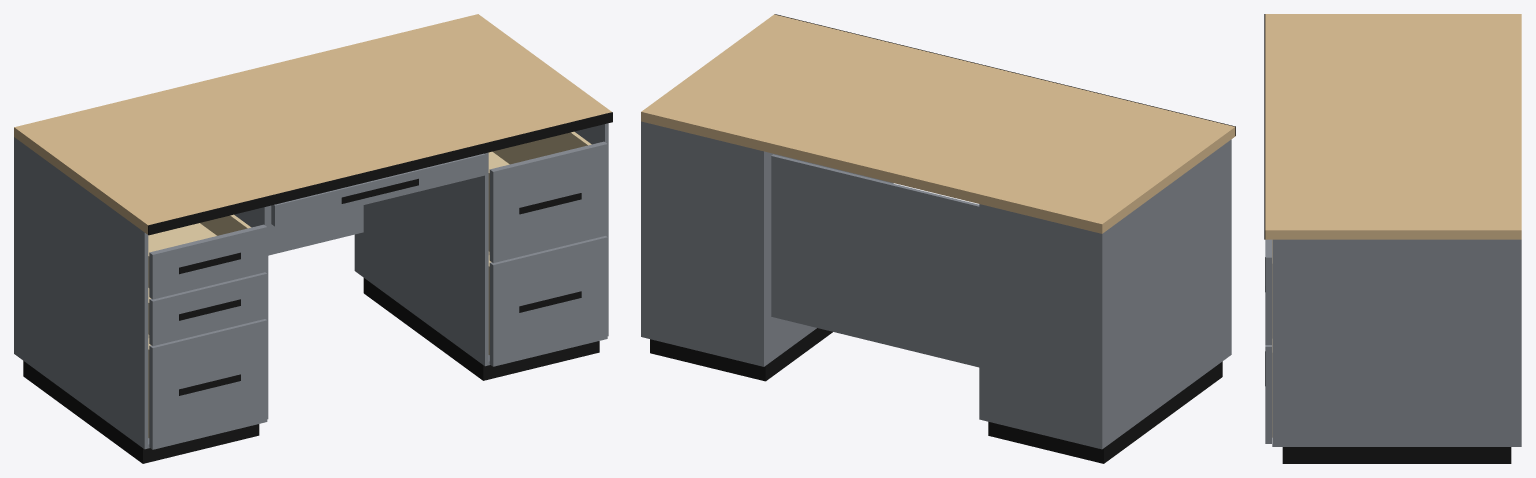
File: 078_teacher_s_desk.glb
3 renders of one model, left to right at view 1: azimuth 30°, elevation 25°; view 2: azimuth 150°, elevation 25°; view 3: azimuth 270°, elevation 25°, orthographic. The views are drawn at different scales.
Visible parts, largest first — view 1: 000_top, 002_pedestal_1_side_l, 028_pedestal_2_side_l, 033_drawer_1_front, 007_drawer_1_front, 040_drawer_2_front, 021_drawer_3_front, 014_drawer_2_front, 001_top_edge_band, 047_centre_pencil_drawer, 006_pedestal_1_toe, 032_pedestal_2_toe (+6 smaller); view 2: 000_top, 049_modesty_panel, 002_pedestal_1_side_l, 005_pedestal_1_back_panel, 031_pedestal_2_back_panel, 028_pedestal_2_side_l, 006_pedestal_1_toe, 032_pedestal_2_toe, 003_pedestal_1_side_r, 029_pedestal_2_side_r; view 3: 000_top, 029_pedestal_2_side_r, 032_pedestal_2_toe, 040_drawer_2_front, 033_drawer_1_front, 001_top_edge_band.
Part boxes in pixels (x1=…): 000_top: x1=14, y1=14, x2=611, y2=234; 002_pedestal_1_side_l: x1=14, y1=137, x2=148, y2=449; 028_pedestal_2_side_l: x1=354, y1=152, x2=488, y2=366; 033_drawer_1_front: x1=489, y1=236, x2=607, y2=366; 007_drawer_1_front: x1=149, y1=319, x2=267, y2=449; 040_drawer_2_front: x1=489, y1=141, x2=607, y2=262; 021_drawer_3_front: x1=149, y1=224, x2=267, y2=299; 014_drawer_2_front: x1=149, y1=272, x2=267, y2=345; 001_top_edge_band: x1=148, y1=112, x2=612, y2=235; 047_centre_pencil_drawer: x1=271, y1=153, x2=485, y2=226; 006_pedestal_1_toe: x1=23, y1=361, x2=259, y2=463; 032_pedestal_2_toe: x1=363, y1=278, x2=599, y2=380; 000_top: x1=641, y1=14, x2=1235, y2=233; 049_modesty_panel: x1=771, y1=154, x2=979, y2=367; 002_pedestal_1_side_l: x1=1098, y1=139, x2=1231, y2=449; 005_pedestal_1_back_panel: x1=983, y1=205, x2=1098, y2=448; 031_pedestal_2_back_panel: x1=645, y1=122, x2=760, y2=365; 028_pedestal_2_side_l: x1=760, y1=150, x2=893, y2=366; 006_pedestal_1_toe: x1=988, y1=361, x2=1222, y2=463; 032_pedestal_2_toe: x1=650, y1=328, x2=832, y2=381; 003_pedestal_1_side_r: x1=979, y1=204, x2=982, y2=420; 029_pedestal_2_side_r: x1=641, y1=121, x2=644, y2=337; 000_top: x1=1265, y1=14, x2=1521, y2=239; 029_pedestal_2_side_r: x1=1272, y1=239, x2=1521, y2=446; 032_pedestal_2_toe: x1=1282, y1=447, x2=1511, y2=463; 040_drawer_2_front: x1=1265, y1=239, x2=1271, y2=344; 033_drawer_1_front: x1=1265, y1=345, x2=1271, y2=443; 001_top_edge_band: x1=1264, y1=14, x2=1265, y2=239.
Bounding box in the file's own units: 1.5 × 0.76 × 0.753.
